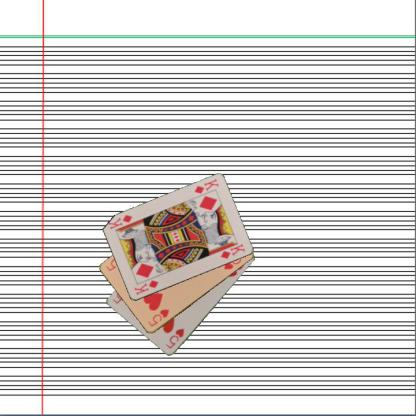5h: (164, 326, 186, 350), (145, 307, 170, 328)
Kd: (131, 278, 160, 297), (192, 177, 219, 196)
